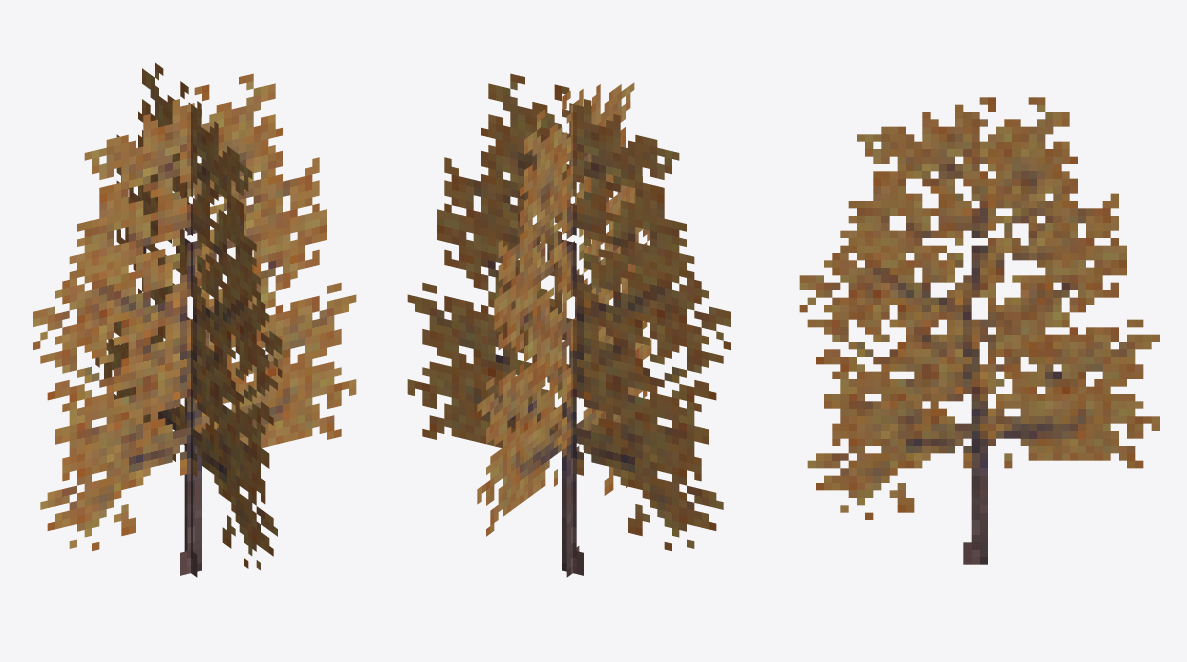
File: tree_large.glb
3 views of the same model, side by side, from view 1: azimuth 30°, elevation 25°; view 2: azimuth 150°, elevation 25°; view 3: azimuth 270°, elevation 25° (orthographic). The views are drawn at different scales.
Visible parts, largest first — view 1: tree_large; view 2: tree_large; view 3: tree_large.
Part boxes in pixels (x1,y1,x2,y2): tree_large: (33, 62, 356, 577); tree_large: (407, 73, 730, 577); tree_large: (799, 97, 1159, 564).
Bounding box in the file's own units: 1.3 × 1.7 × 1.3.
1 material, 1 textured.
